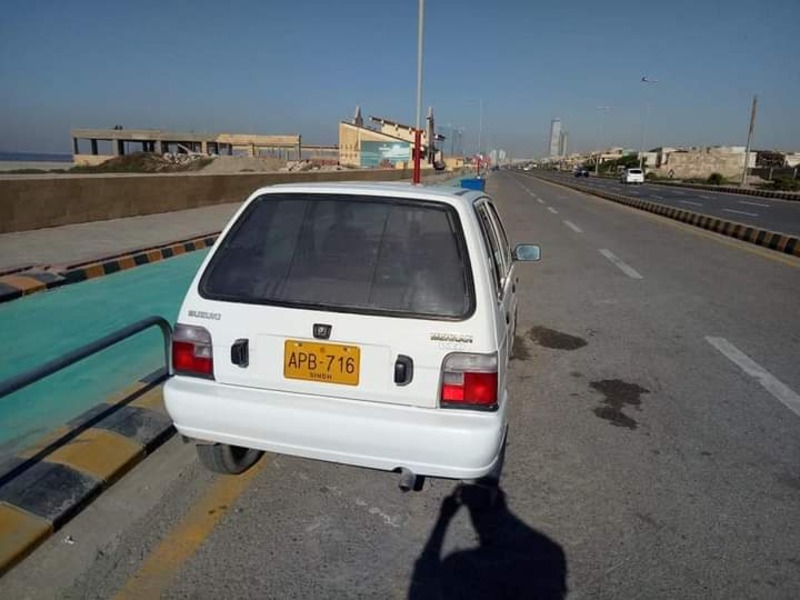License Plate: (281, 334, 365, 394)
